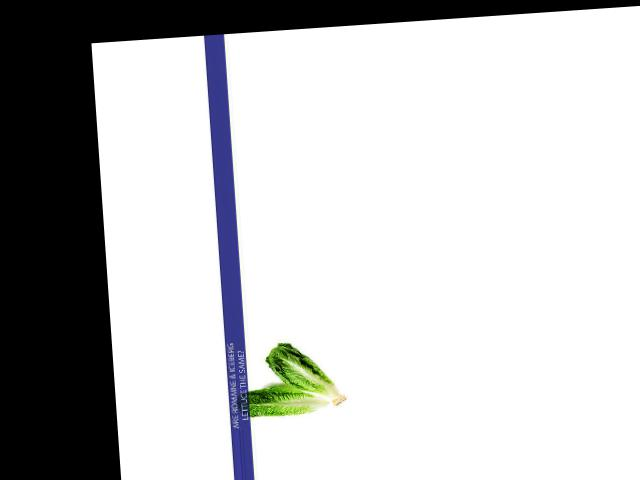lettuce: (258, 340, 346, 414)
